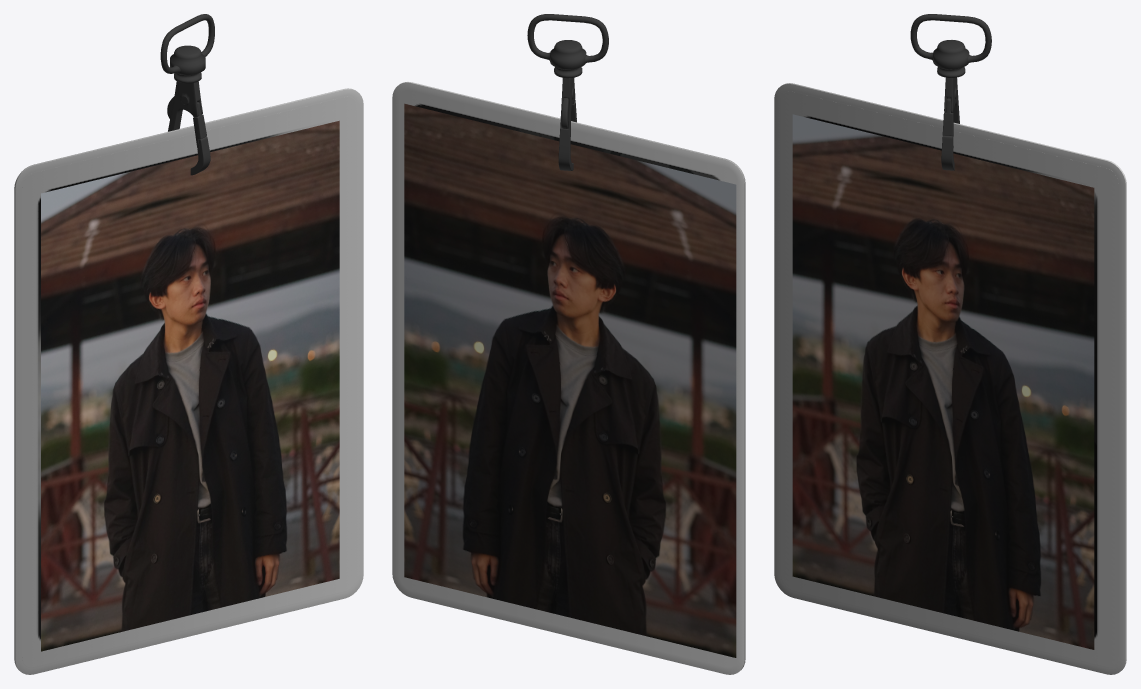
The picture shows the model from 3 angles, left to right: view 1: azimuth 30°, elevation 25°; view 2: azimuth 150°, elevation 25°; view 3: azimuth 330°, elevation 25°; orthographic projection.
Parts seen in each view (by area): view 1: PP.001, card, clip, clamp; view 2: PP, card, clip, clamp; view 3: PP.001, card, clip, clamp.
Boxes of the visible parts, x1,y1,x2,y2 form: PP.001: [41, 120, 339, 651]; card: [14, 88, 363, 674]; clip: [160, 14, 214, 83]; clamp: [167, 81, 210, 175]; PP: [404, 103, 736, 657]; card: [392, 82, 745, 674]; clip: [527, 14, 608, 78]; clamp: [558, 77, 576, 170]; PP.001: [792, 114, 1094, 649]; card: [774, 83, 1126, 674]; clip: [910, 14, 991, 77]; clamp: [941, 77, 959, 170].
Bounding box in the file's own units: 0.7164 × 1.21 × 0.0903.
4 materials, 3 textured.
